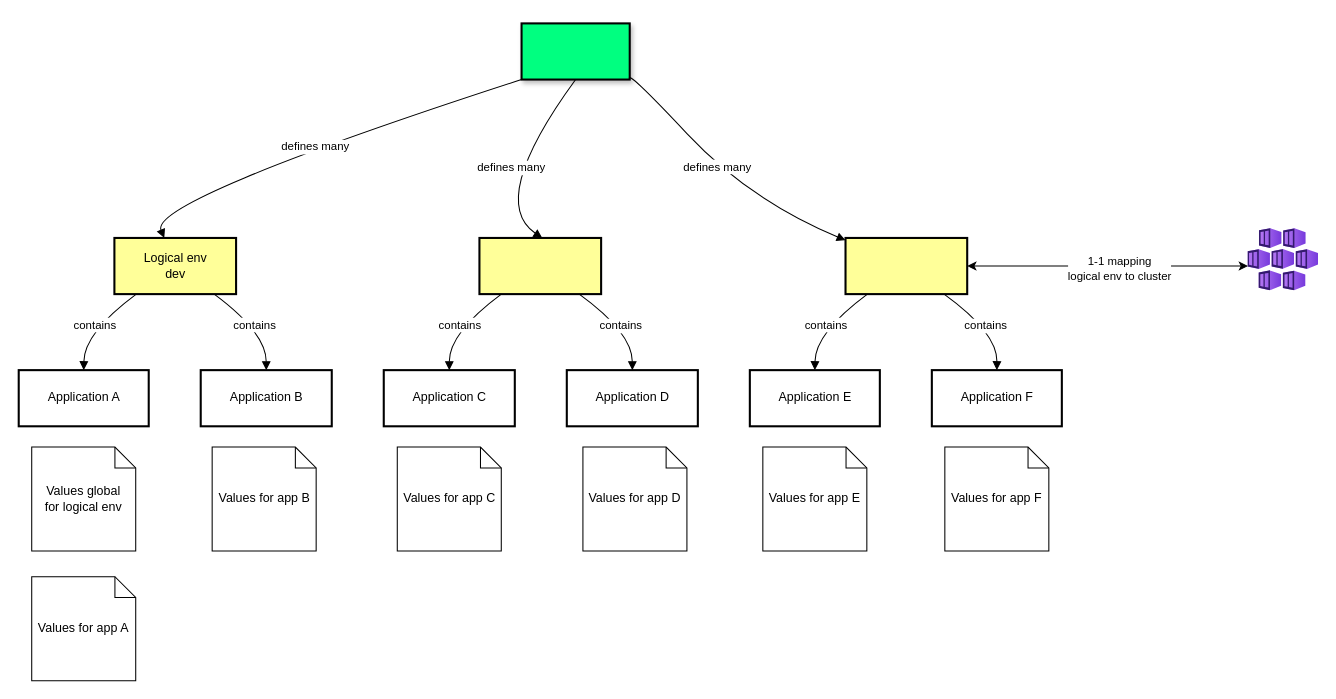
The diagram is 1336 pixels wide and 699 high, and some of its shapes have lost their labels. Here are the shapes that lost their labels. From the top down, the centre of each, then its label:
At pixel 576 52: "Tenant".
At pixel 540 265: "Logical env test".
At pixel 906 265: "Logical env prod".
